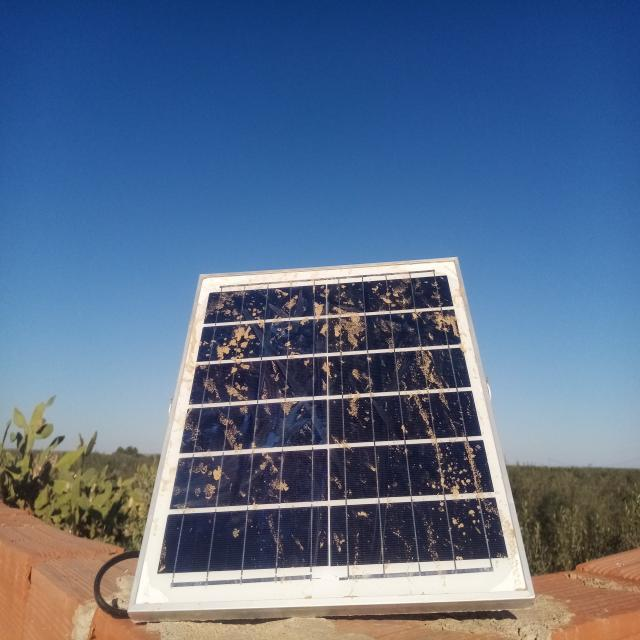faulty: (134, 263, 535, 607)
